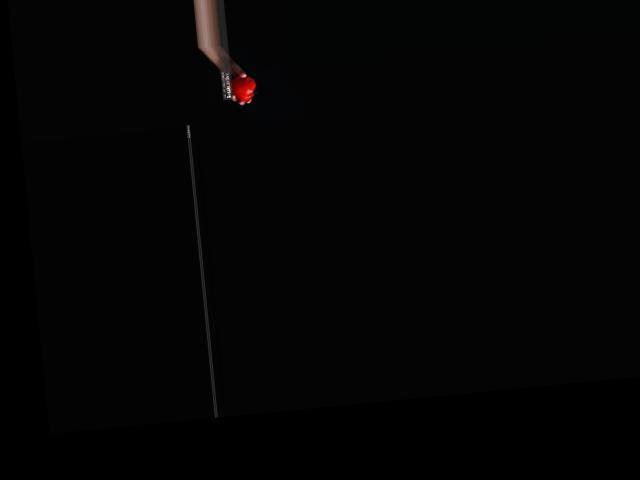tomato: (230, 75, 257, 103)
